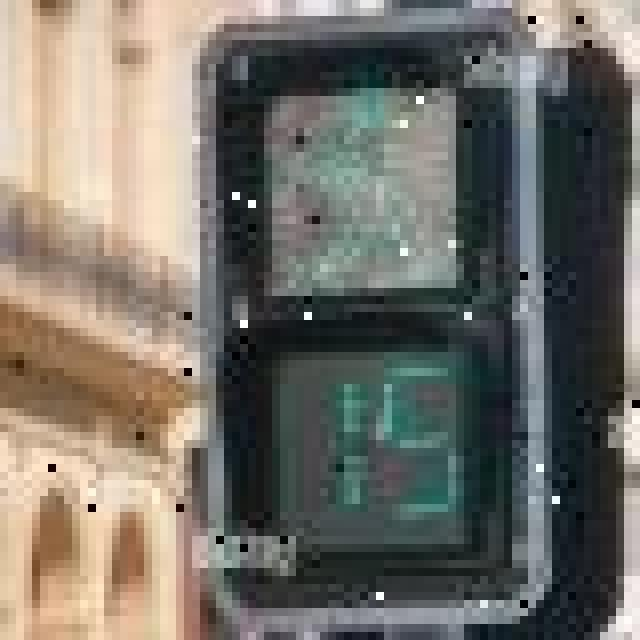greenlight: (203, 43, 552, 611)
